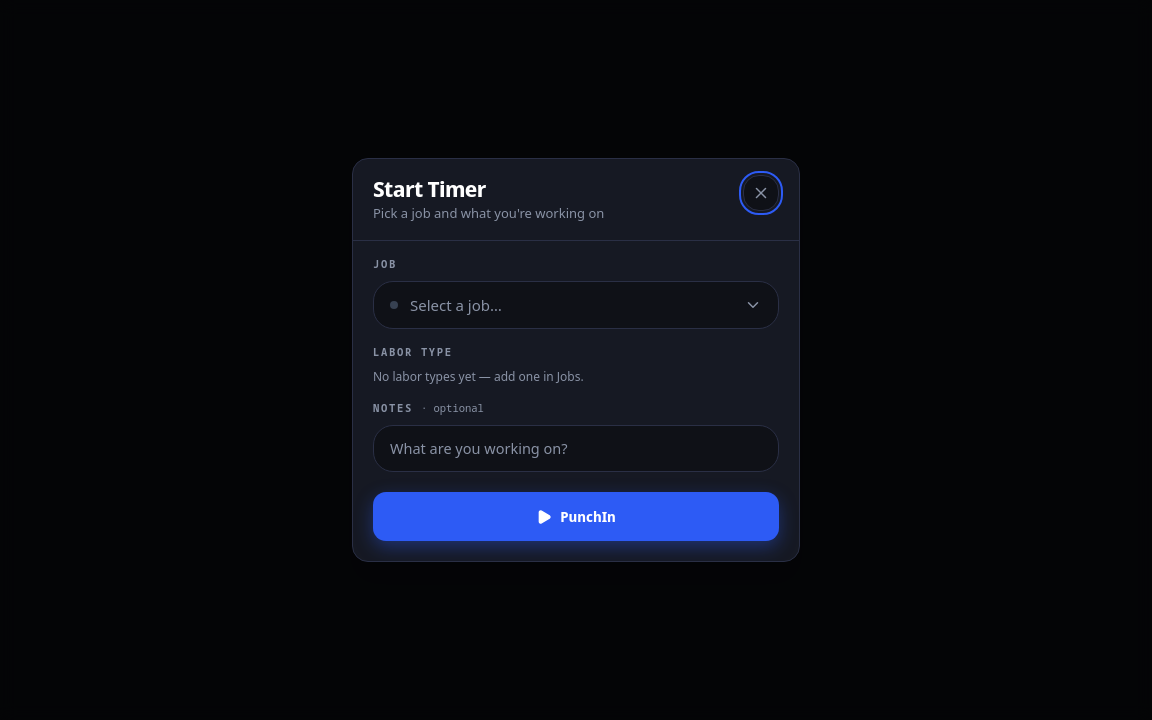
Test: StartTimerModal — validation › shows an error when job is selected but no labor type
The image size is (1152, 720).
Click the button "Select a job…".
click(456, 304)  # box [373,280,779,329]
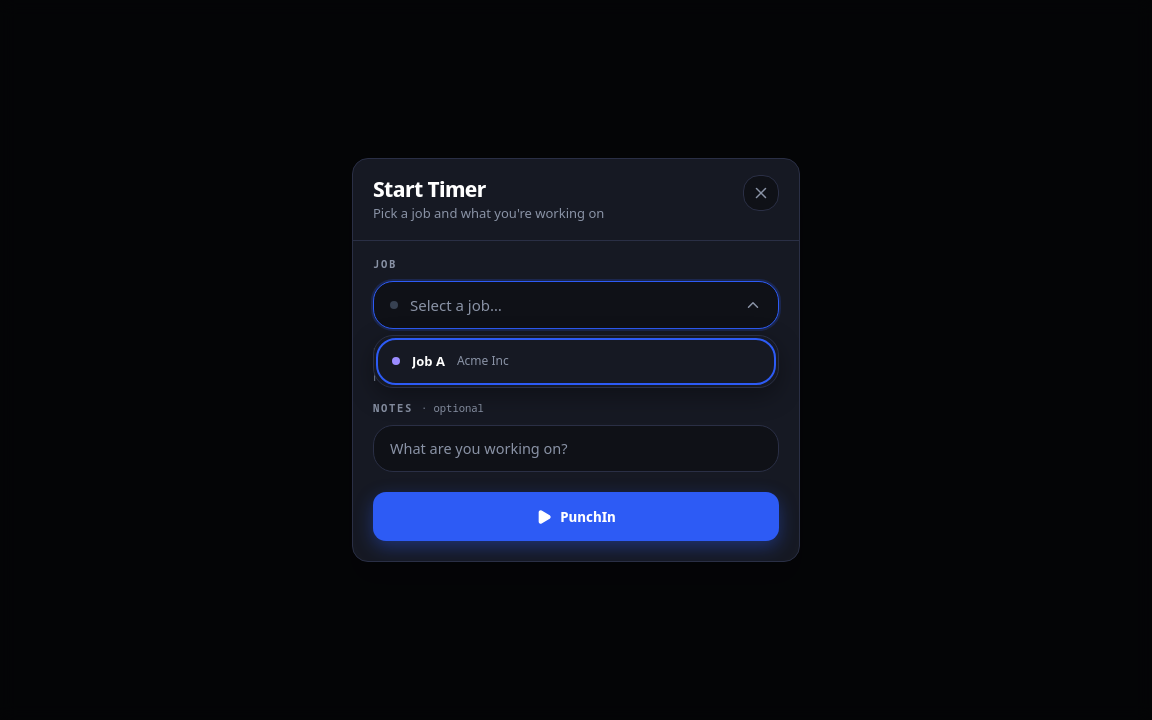
Click the option "Job A Acme Inc".
click(428, 361)  # box [380,342,772,381]
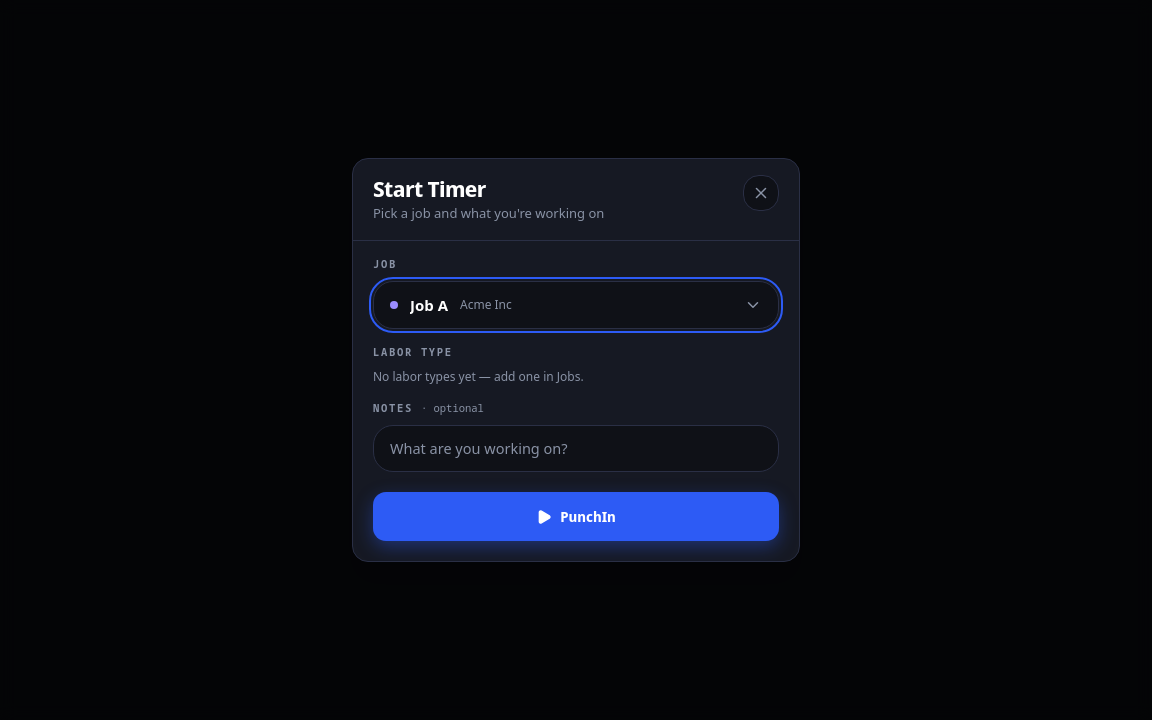
Click the button "PunchIn".
click(576, 517)  # box [373,492,779,541]
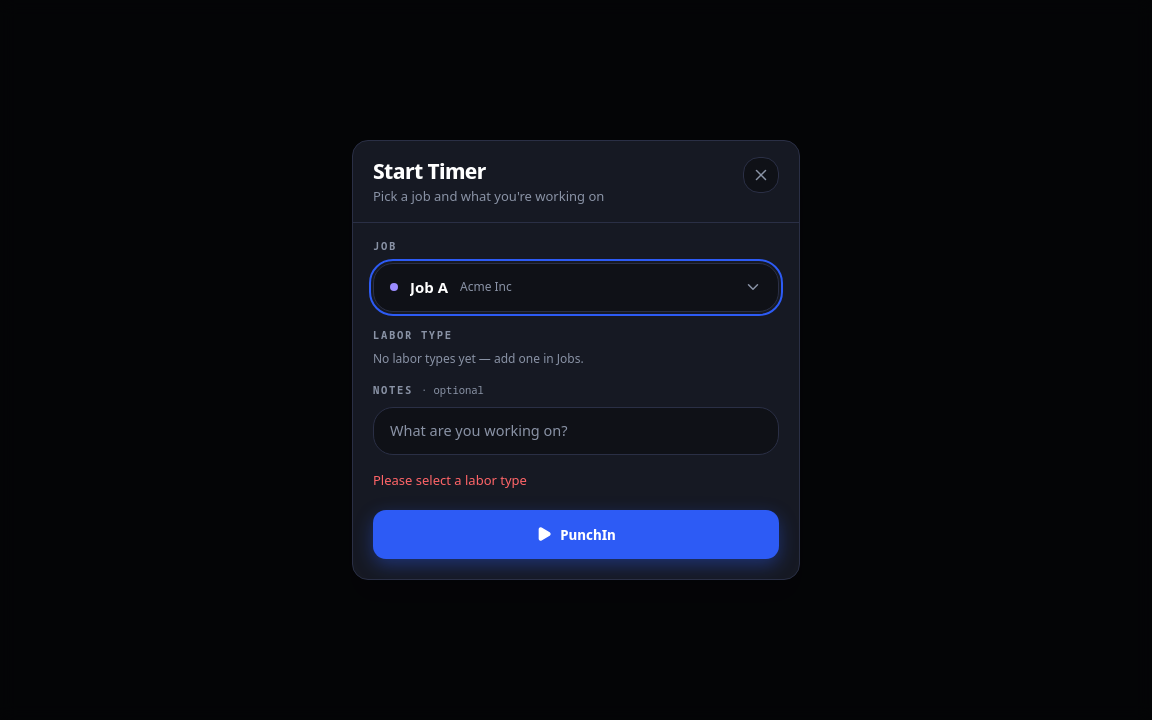
Result: the text "Please select a labor type" is shown at [373,471,527,489]
